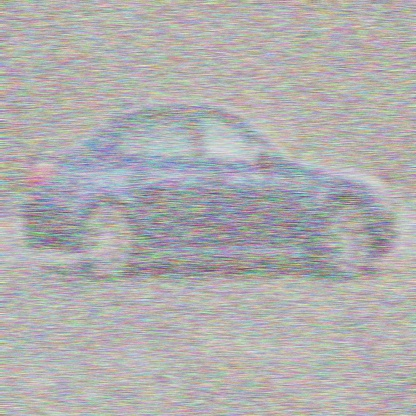Vehicle: (20, 99, 396, 281)
